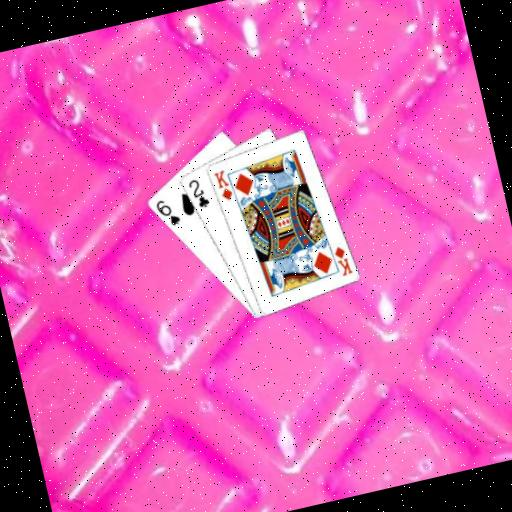2C: (184, 174, 213, 212)
6S: (151, 194, 183, 231)
KD: (210, 165, 236, 204), (330, 241, 355, 278)
